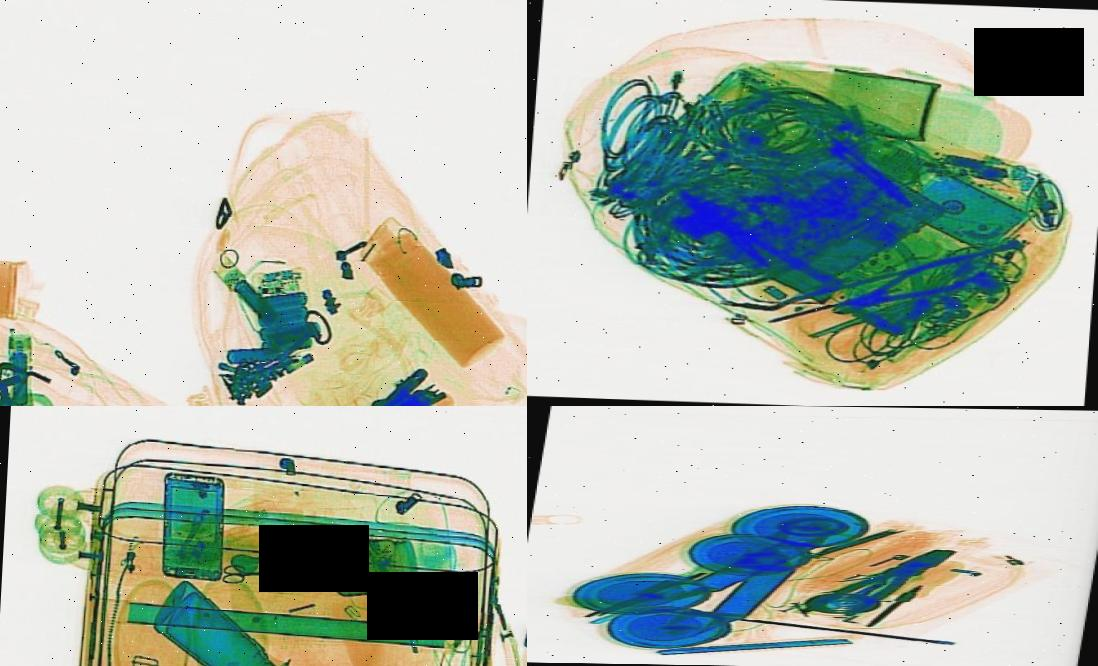Pliers: (822, 245, 991, 330), (802, 539, 970, 622)
Scissors: (220, 560, 302, 586)
Wrench: (261, 349, 440, 406)
